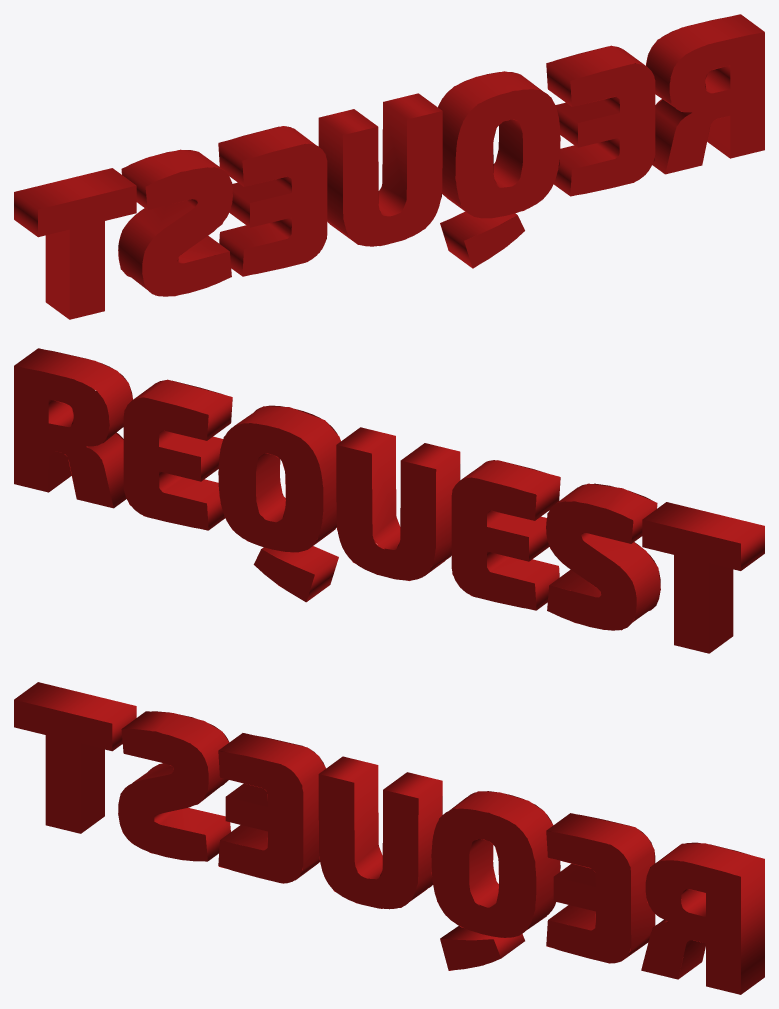
The model's file is request.fbx.
3 views of the same model, one above another, from view 1: azimuth 30°, elevation 25°; view 2: azimuth 150°, elevation 25°; view 3: azimuth 330°, elevation 25° (orthographic).
Parts seen in each view (by area): view 1: Text; view 2: Text; view 3: Text.
Part boxes in pixels (<box>): Text: <box>14,14,764,319</box>; Text: <box>14,348,764,653</box>; Text: <box>14,682,764,994</box>.
Size of the model in its own units: 13.94 by 3.08 by 0.8.
